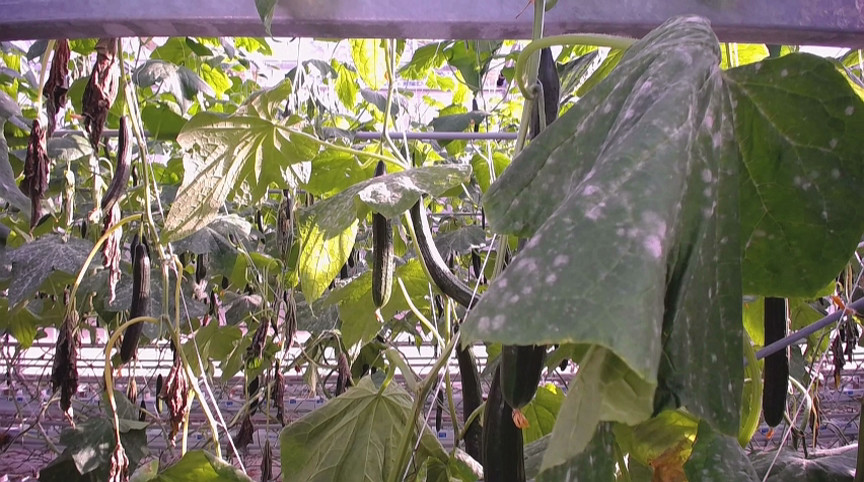cucumber: (411, 198, 481, 308), (483, 367, 527, 482), (764, 297, 794, 427), (121, 244, 153, 362), (100, 115, 135, 213), (456, 343, 485, 459), (502, 343, 549, 409), (372, 163, 392, 310), (531, 44, 559, 140)
